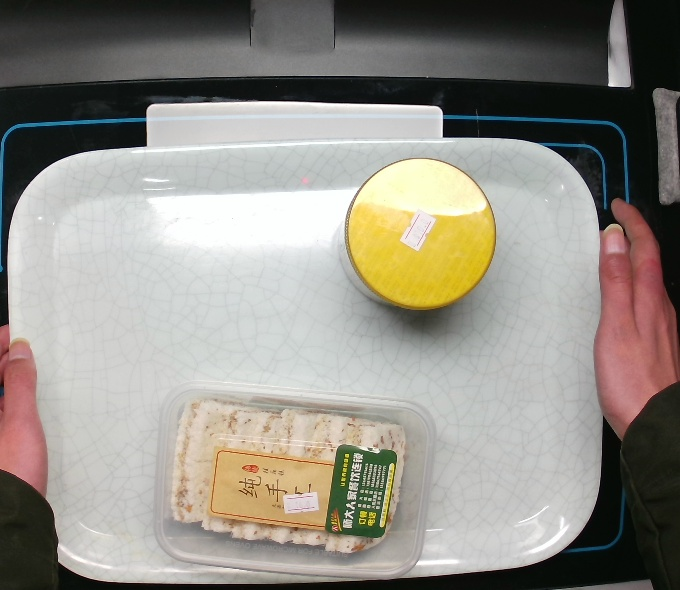wcq-GuiHuaGao: (150, 378, 440, 583)
wcq-MaiYaTang: (336, 157, 498, 312)
